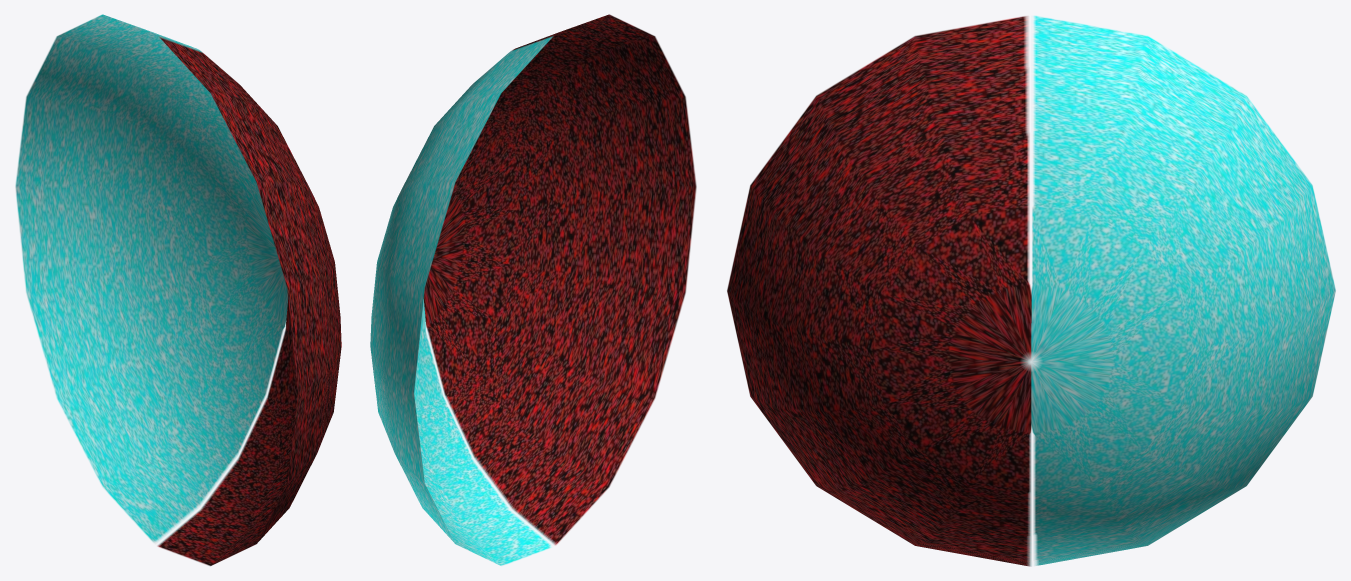
3 renders of one model, left to right at view 1: azimuth 30°, elevation 25°; view 2: azimuth 150°, elevation 25°; view 3: azimuth 270°, elevation 25°, orthographic. The views are drawn at different scales.
Parts seen in each view (by area): view 1: SM_VFX_Shockwave_Round_144_LOD0; view 2: SM_VFX_Shockwave_Round_144_LOD0; view 3: SM_VFX_Shockwave_Round_144_LOD0.
Part boxes in pixels (x1,y1,x2,y2): SM_VFX_Shockwave_Round_144_LOD0: [15, 14, 341, 565]; SM_VFX_Shockwave_Round_144_LOD0: [370, 14, 696, 565]; SM_VFX_Shockwave_Round_144_LOD0: [727, 16, 1335, 566].
Bounding box in the file's own units: 0.5368 × 1.93 × 1.93.
Materials: 1 (1 with a texture image).
